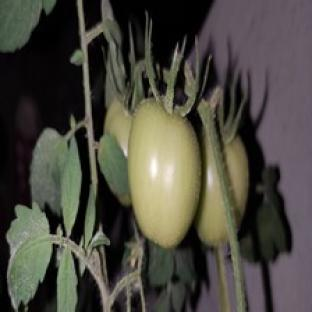Tomato: (129, 99, 200, 247), (195, 131, 228, 246), (105, 99, 132, 157)
